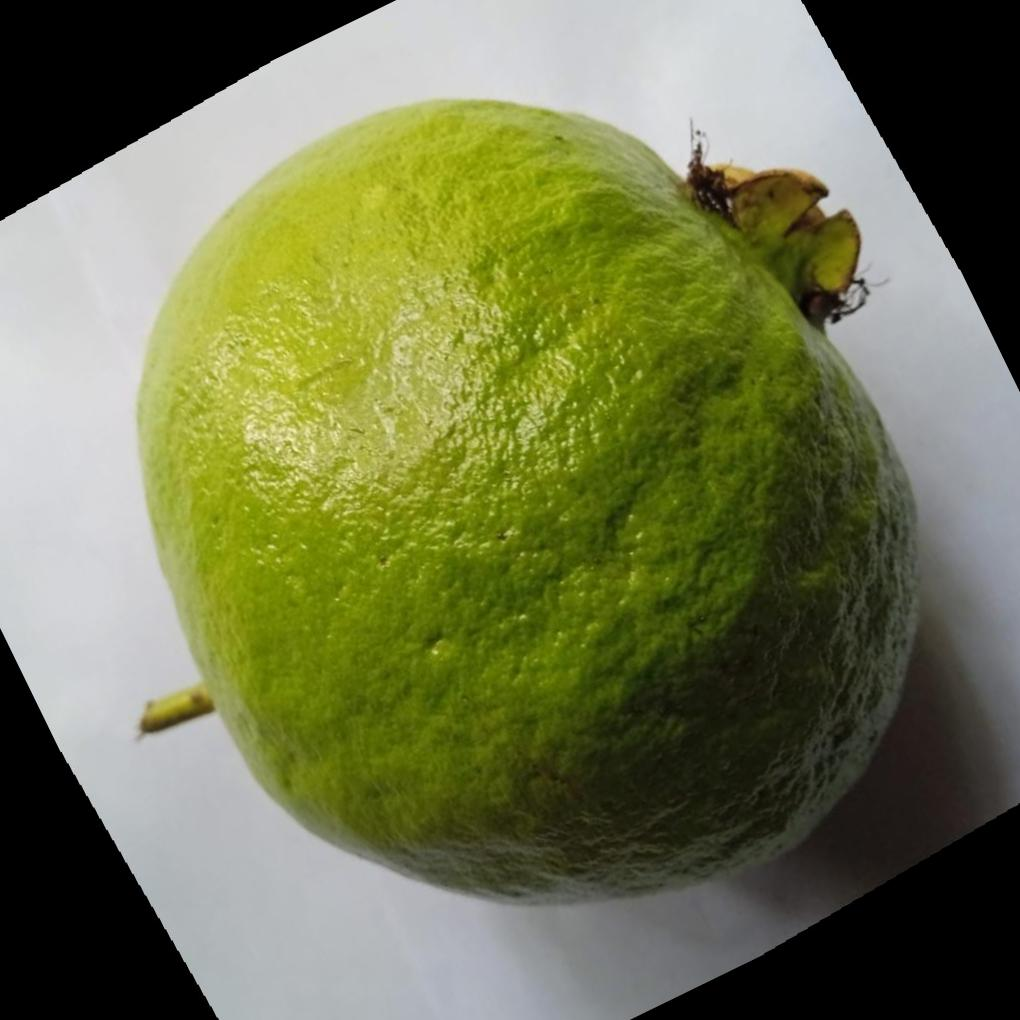FreshGuava: (136, 94, 925, 905)
